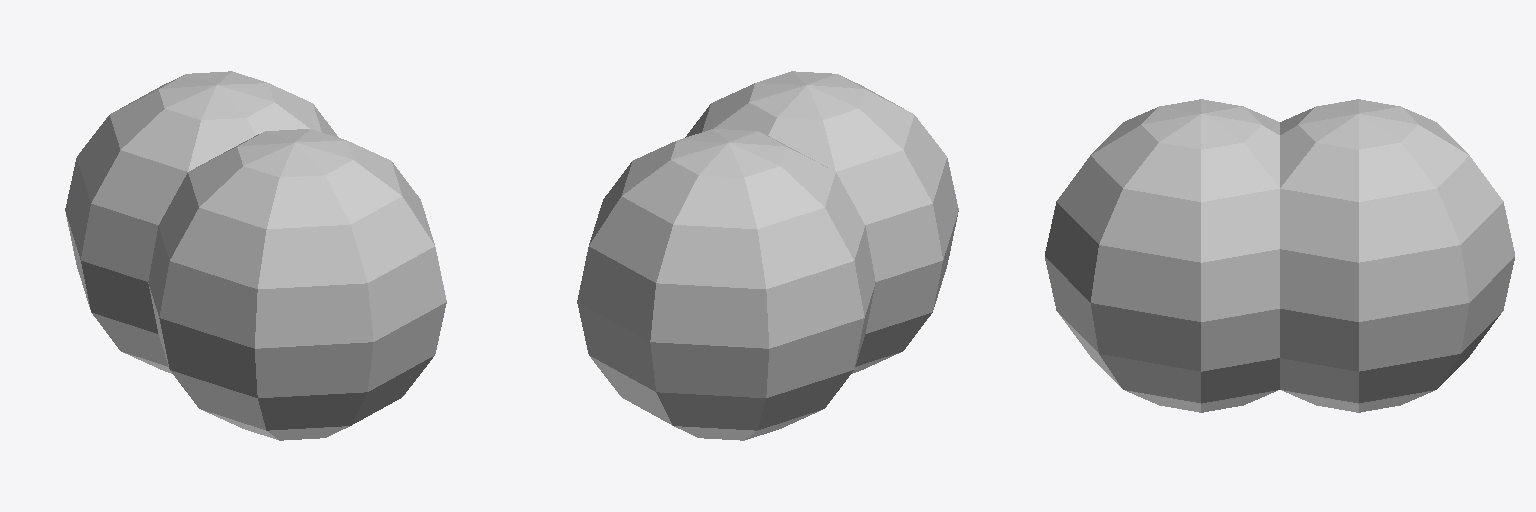
The model's file is Oxygen.obj.
3 renders of one model, left to right at view 1: azimuth 30°, elevation 25°; view 2: azimuth 150°, elevation 25°; view 3: azimuth 270°, elevation 25°, orthographic.
Parts seen in each view (by area): view 1: Sphere; view 2: Sphere; view 3: Sphere.
Boxes of the visible parts, <box> form: Sphere: <box>65,71,446,440</box>; Sphere: <box>577,71,958,440</box>; Sphere: <box>1045,99,1514,412</box>.
Bounding box in the file's own units: 2 × 2 × 3.